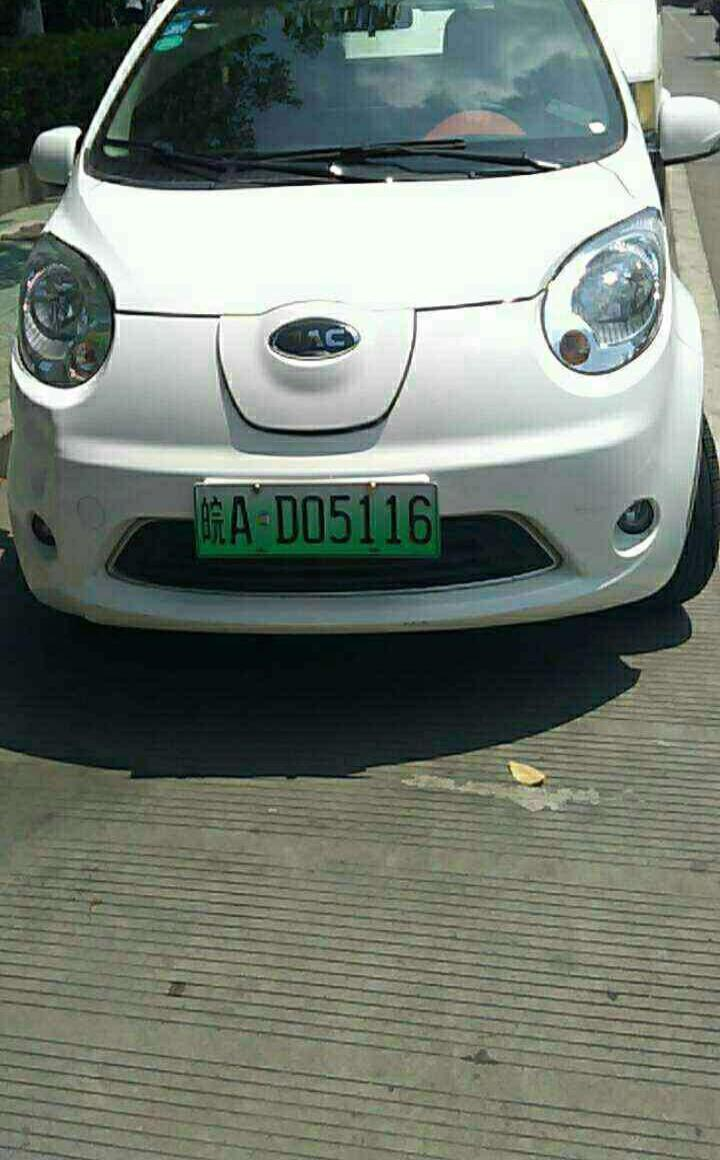car_id: (194, 485, 438, 558)
